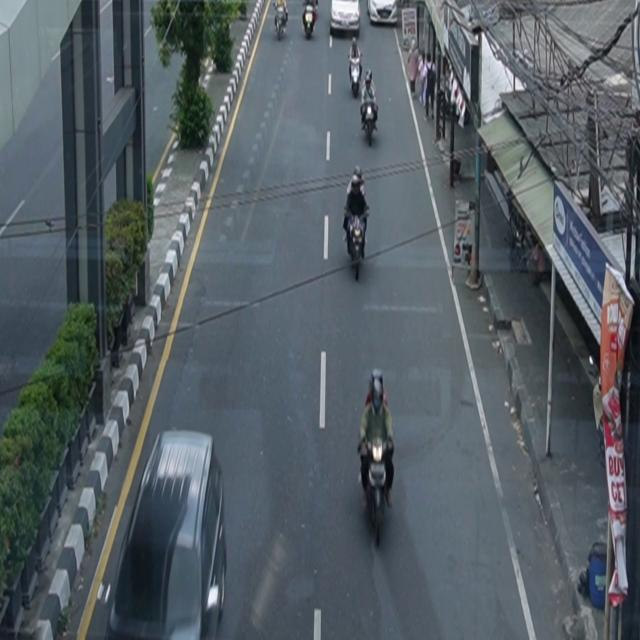car: (108, 429, 228, 640), (331, 1, 361, 37), (367, 1, 398, 26)
